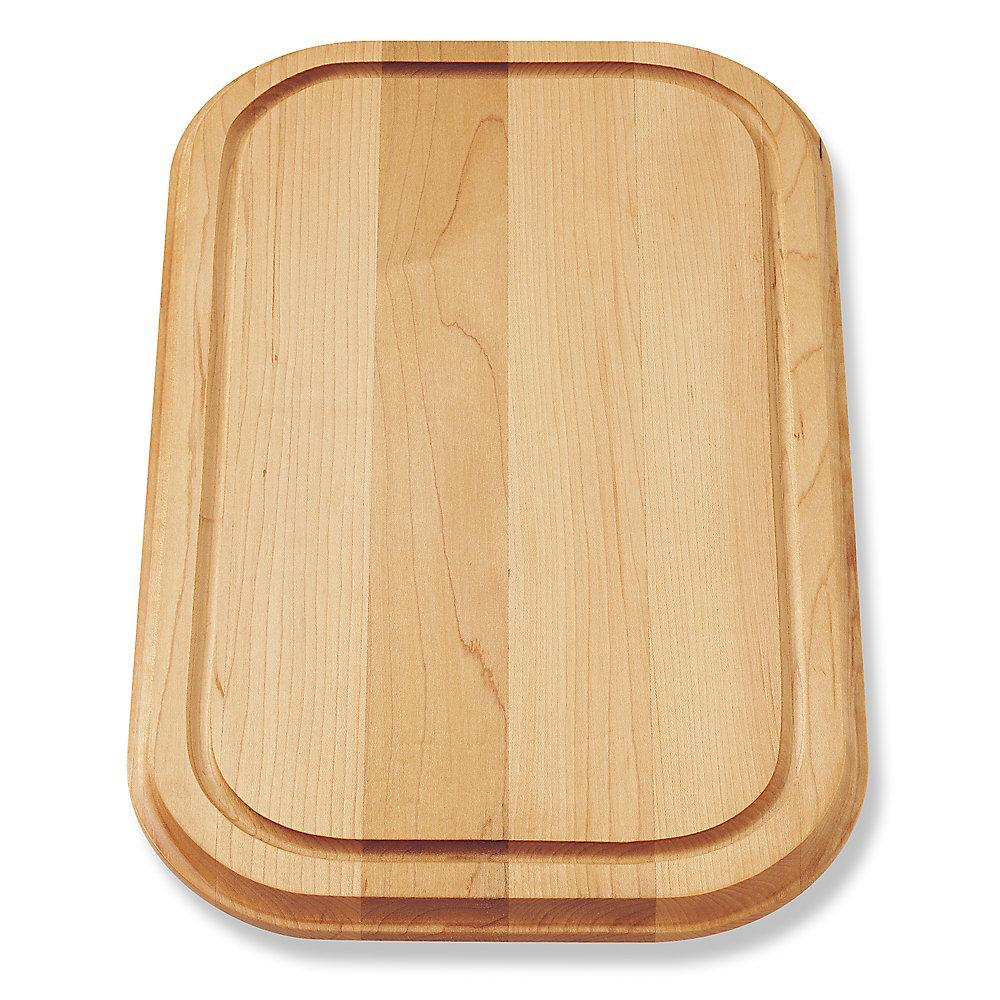gloved_hand: (123, 26, 901, 955)
